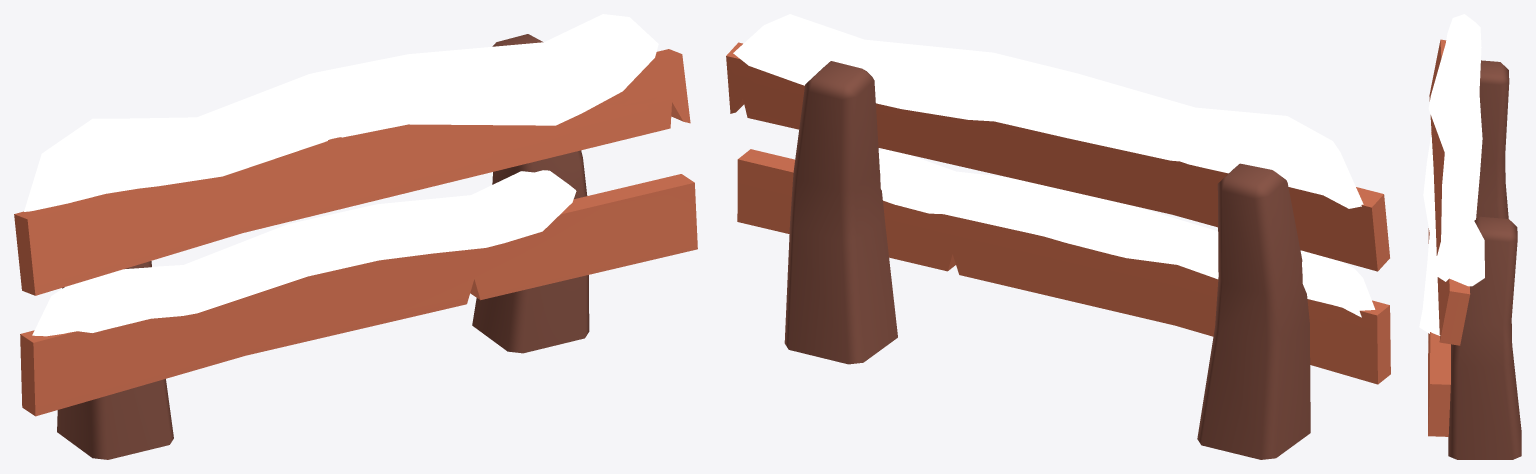
The model's file is fence_001.glb.
The picture shows the model from 3 angles, left to right: view 1: azimuth 30°, elevation 25°; view 2: azimuth 150°, elevation 25°; view 3: azimuth 270°, elevation 25°; orthographic projection. The views are drawn at different scales.
Visible parts, largest first — view 1: fence_001; view 2: fence_001; view 3: fence_001.
Part boxes in pixels (x1,y1,x2,y2): fence_001: (14, 14, 697, 459); fence_001: (726, 14, 1390, 459); fence_001: (1419, 14, 1521, 459).
Size of the model in its own units: 3.05 by 1.44 by 0.5249.
Materials: 2 (2 with a texture image).
